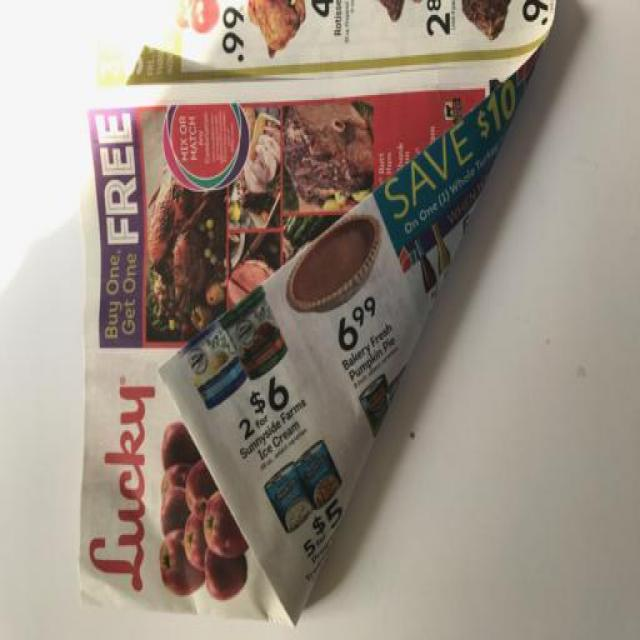paper: (45, 1, 615, 629)
